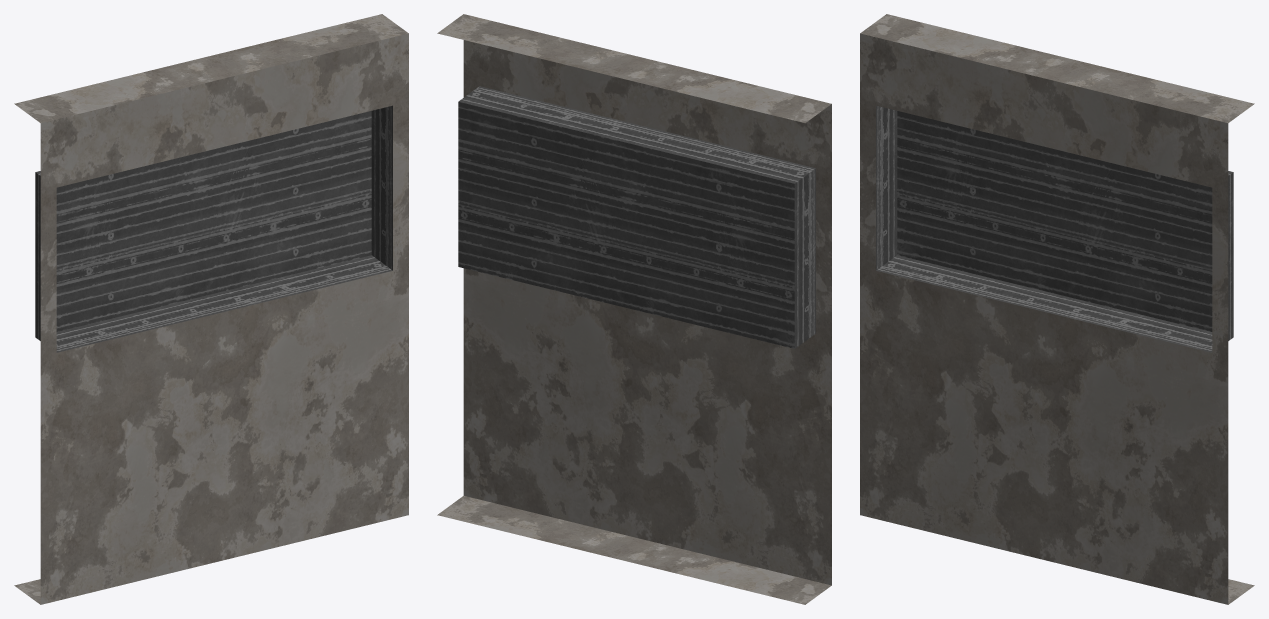
Rendered from WallSingleRecess.glb.
The picture shows the model from 3 angles, left to right: view 1: azimuth 30°, elevation 25°; view 2: azimuth 150°, elevation 25°; view 3: azimuth 330°, elevation 25°; orthographic projection.
Visible parts, largest first — view 1: Wall_Single_Recess_Cube.006; view 2: Wall_Single_Recess_Cube.006; view 3: Wall_Single_Recess_Cube.006.
Boxes of the visible parts, x1=… form: Wall_Single_Recess_Cube.006: x1=14, y1=14, x2=408, y2=604; Wall_Single_Recess_Cube.006: x1=437, y1=14, x2=831, y2=604; Wall_Single_Recess_Cube.006: x1=860, y1=14, x2=1254, y2=604.
Size of the model in its own units: 4 by 5 by 0.5.
2 materials, 2 textured.
